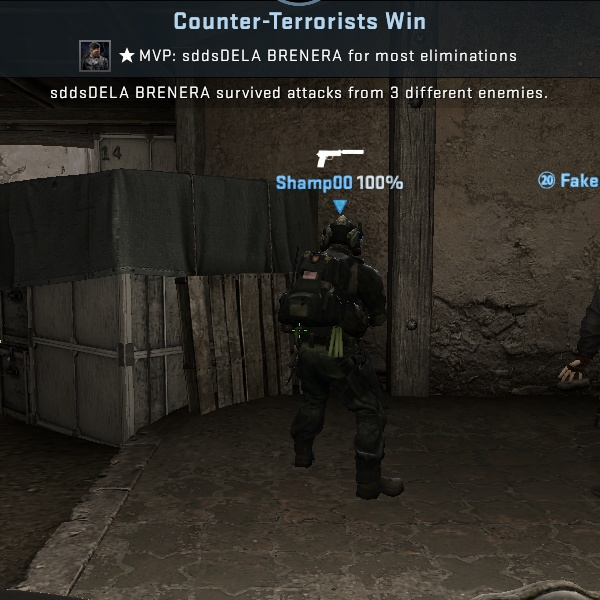ct_body: (269, 203, 402, 500)
ct_head: (313, 209, 369, 263)
